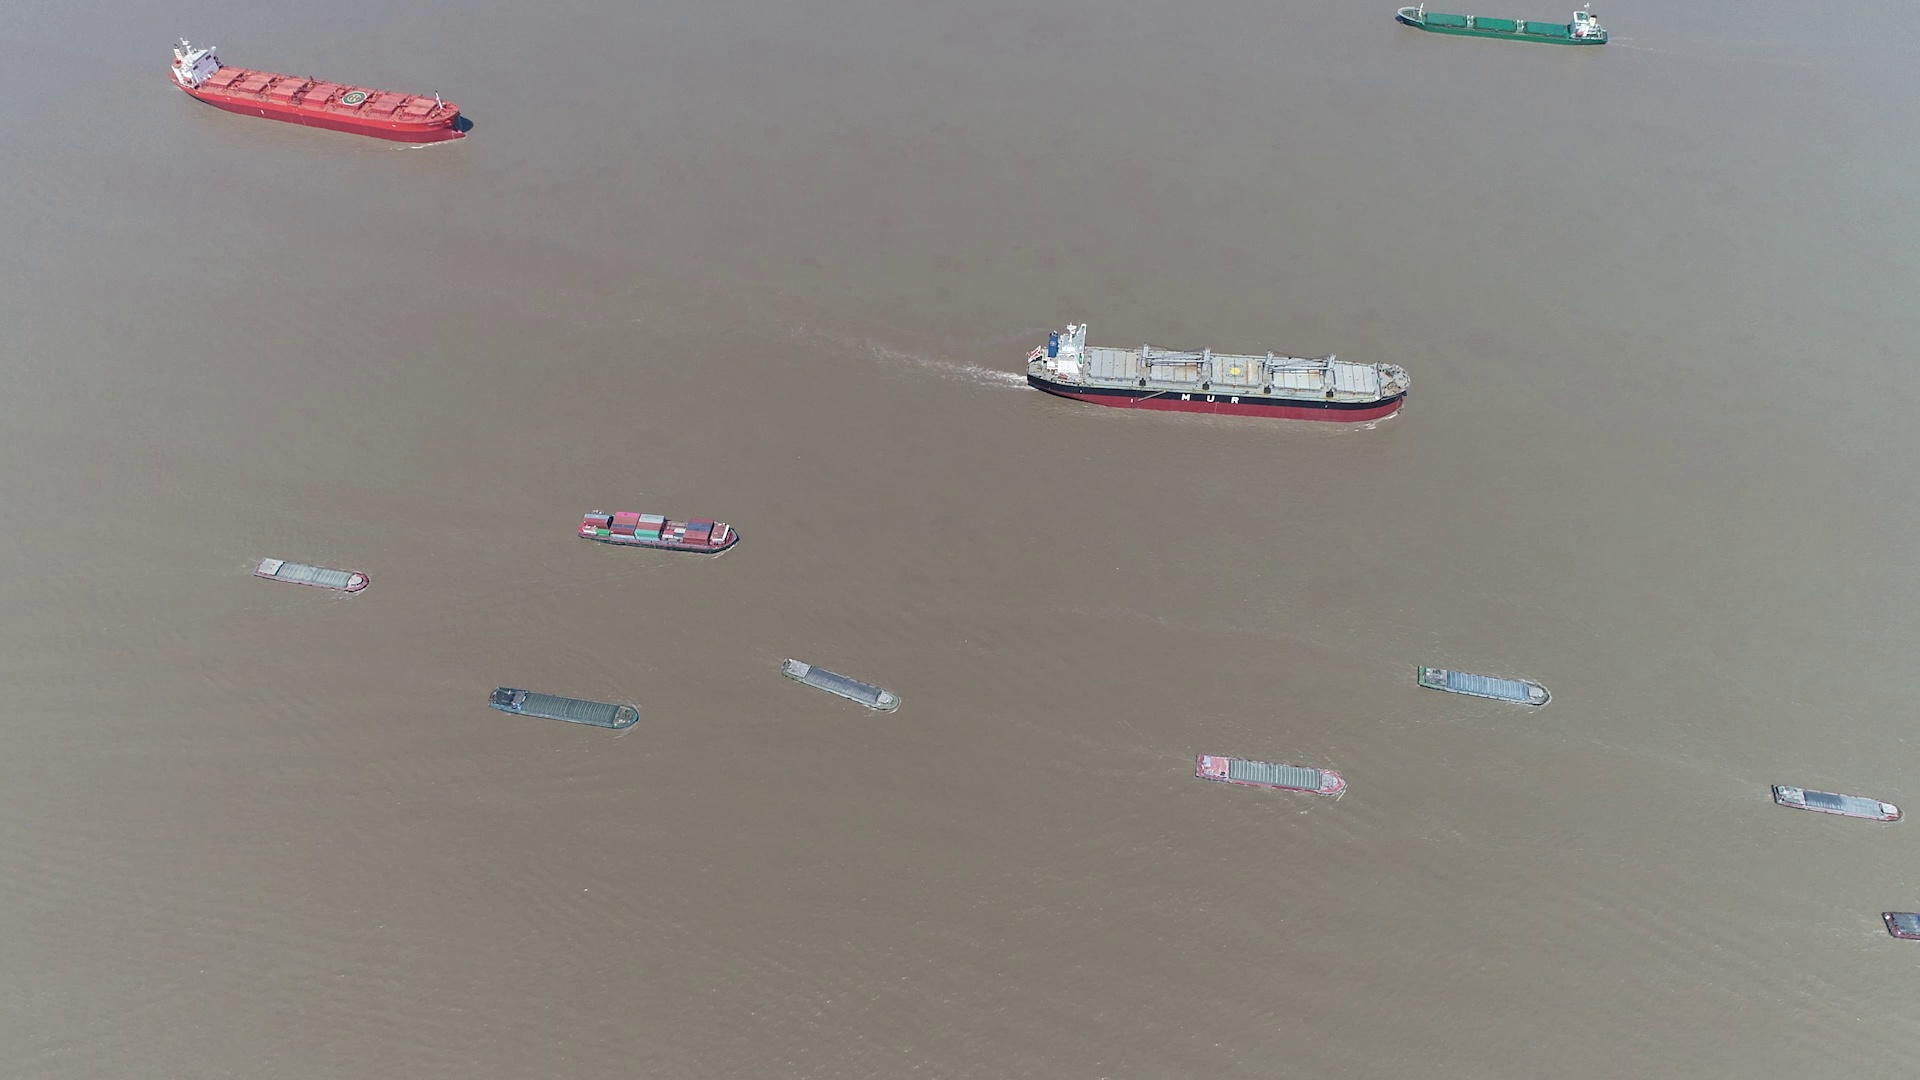ship: (1027, 327, 1411, 423), (169, 38, 469, 142), (1396, 7, 1607, 46), (487, 684, 645, 731), (580, 509, 738, 554), (783, 655, 899, 712), (1192, 756, 1344, 796), (1414, 665, 1551, 704), (1768, 783, 1903, 823), (255, 556, 368, 592), (1883, 913, 1920, 940)
